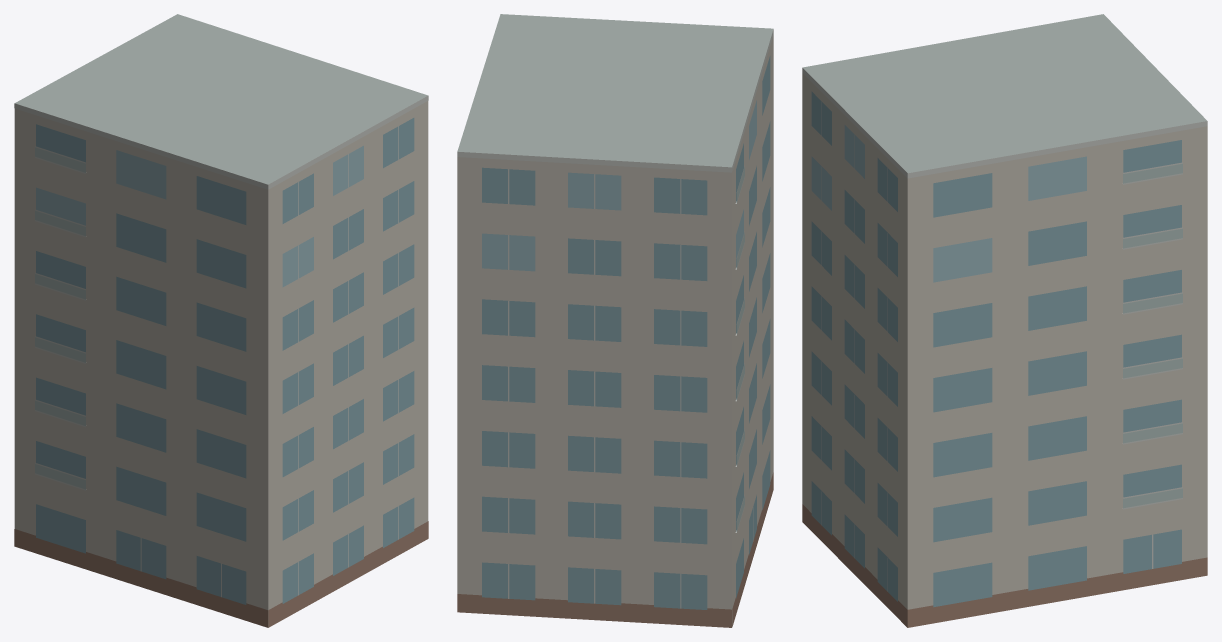
The model's file is survey-upis-32594167.glb.
3 views of the same model, side by side, from view 1: azimuth 30°, elevation 25°; view 2: azimuth 150°, elevation 25°; view 3: azimuth 270°, elevation 25° (orthographic). The views are drawn at different scales.
Visible parts, largest first — view 1: survey-upis-32594167.tmp; view 2: survey-upis-32594167.tmp; view 3: survey-upis-32594167.tmp.
Part boxes in pixels (x1,y1,x2,y2): survey-upis-32594167.tmp: (14,14,428,627); survey-upis-32594167.tmp: (457,14,773,627); survey-upis-32594167.tmp: (802,14,1207,627).
Bounding box in the file's own units: 16.06 × 21.35 × 17.26.
